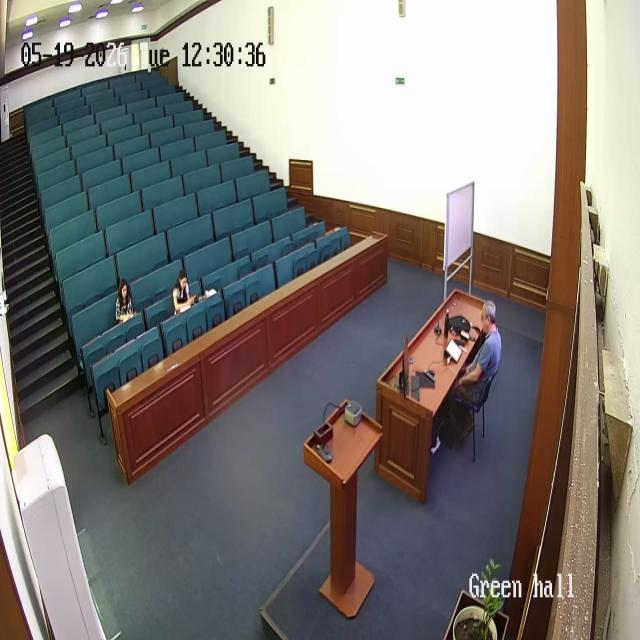person: (444, 300, 502, 446), (171, 268, 197, 314), (114, 278, 136, 324)
